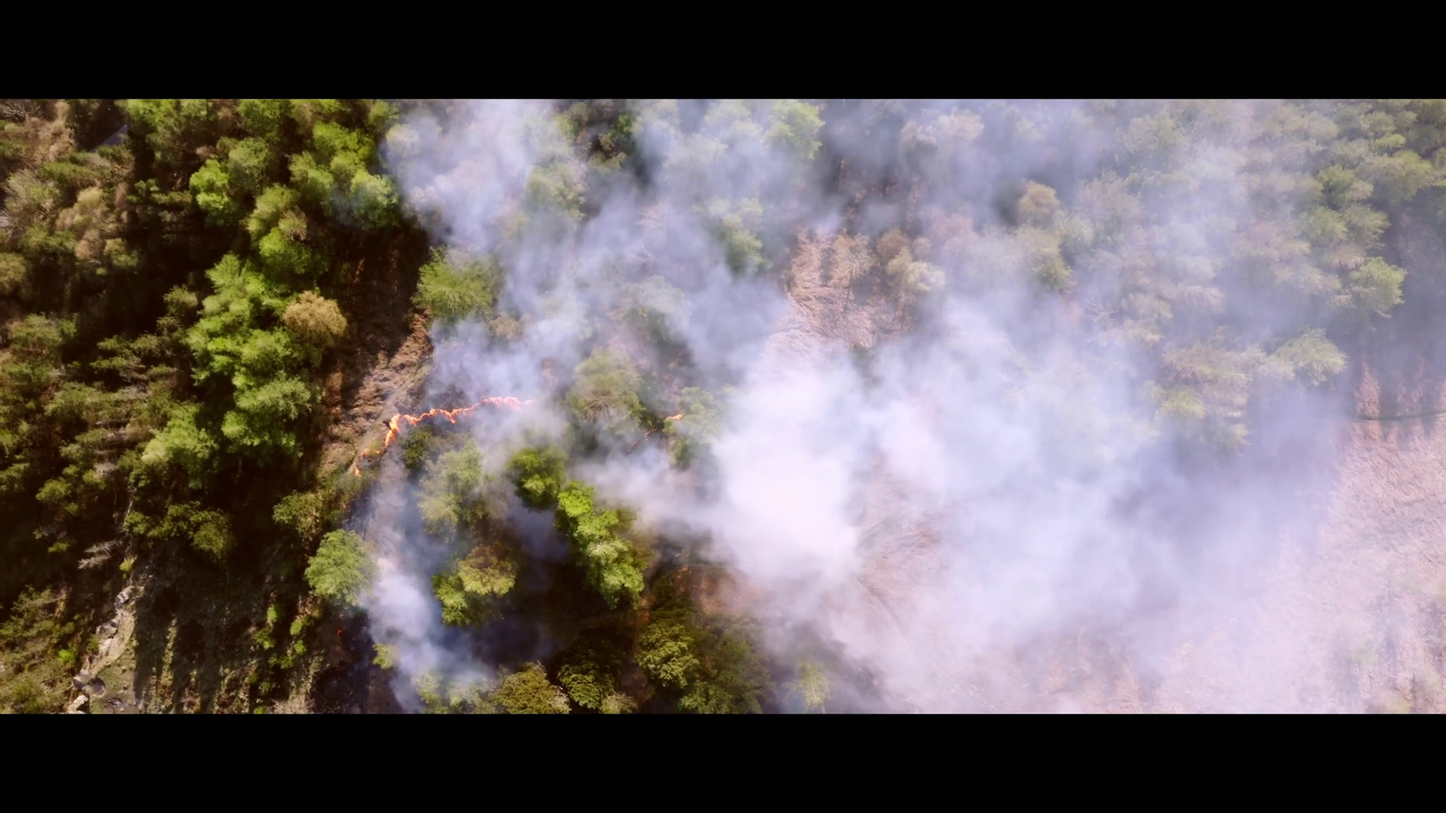forest_fire: (358, 397, 533, 458)
